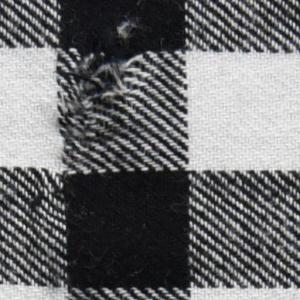Damage: (55, 47, 151, 150)
Wrinkle: (26, 163, 87, 224)
